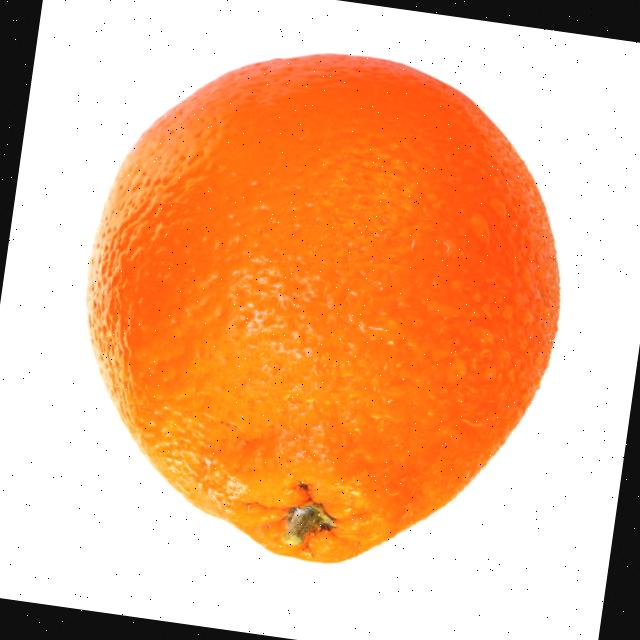Ripe: (44, 18, 597, 596)
